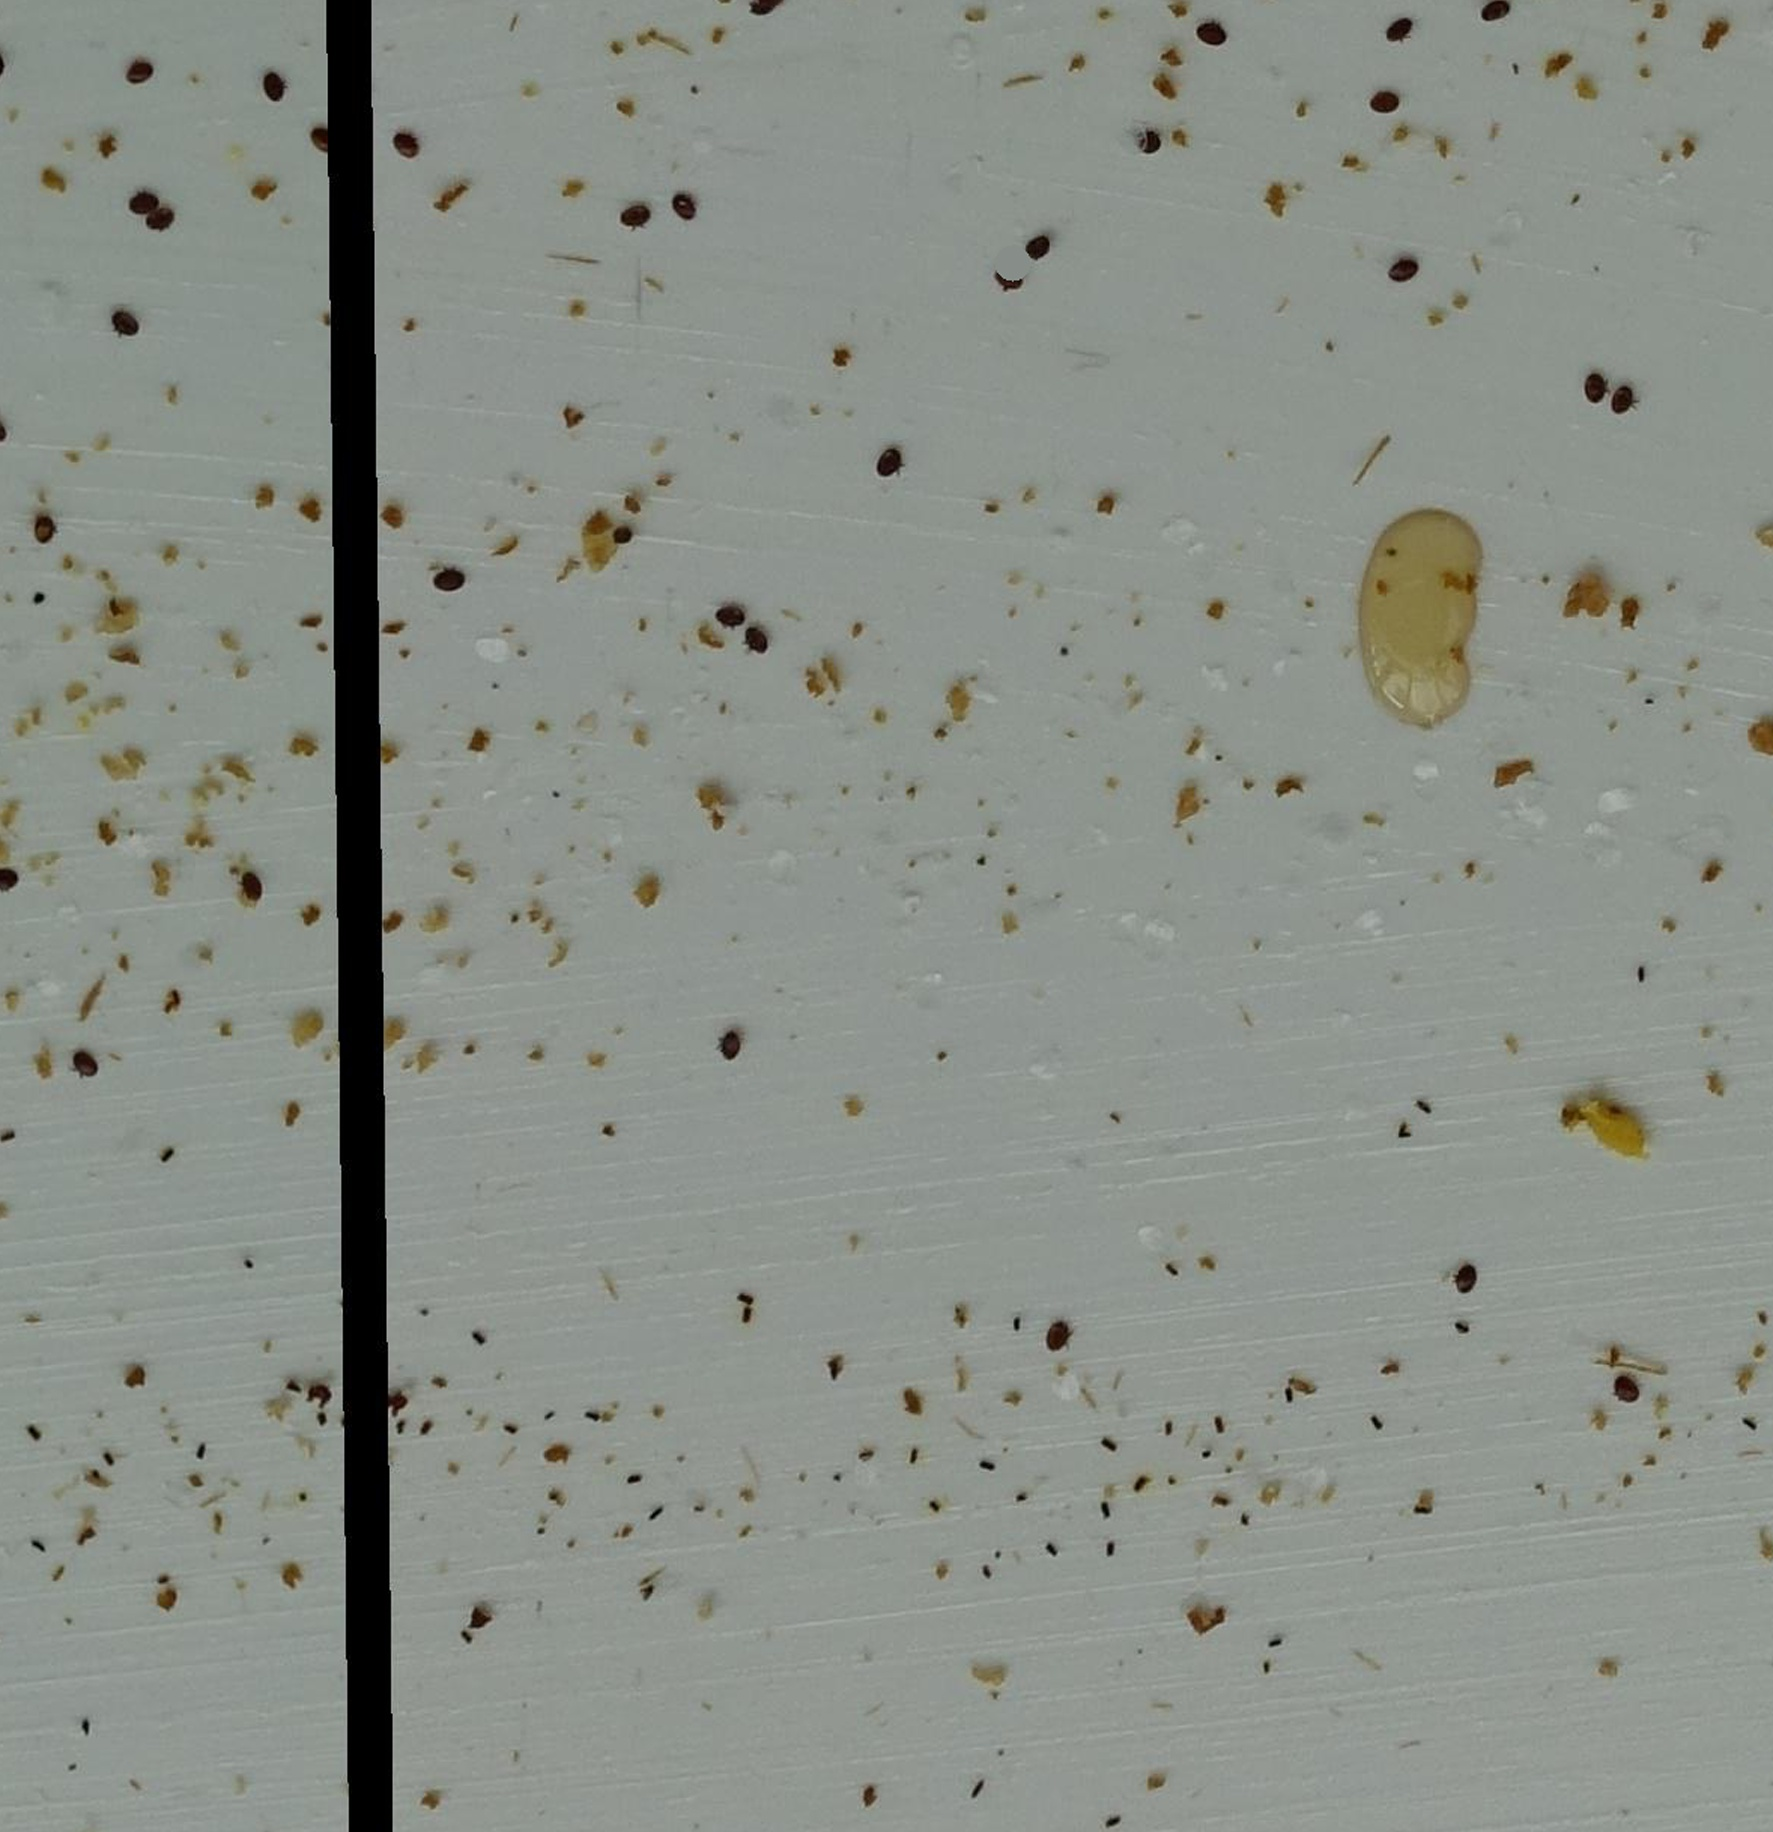Varroa: (1125, 121, 1169, 165), (435, 569, 474, 608), (1449, 1251, 1483, 1291), (131, 186, 165, 224), (1037, 1323, 1075, 1358), (873, 448, 908, 483), (711, 1030, 744, 1063), (1385, 257, 1418, 290), (110, 308, 142, 340), (671, 190, 703, 222), (1382, 15, 1415, 47), (1608, 383, 1641, 415), (70, 1044, 101, 1078), (1582, 371, 1613, 406), (150, 201, 182, 236), (1609, 1376, 1641, 1408), (393, 132, 424, 165), (124, 61, 155, 92), (1194, 16, 1225, 47), (618, 201, 649, 232), (1371, 83, 1402, 114), (716, 600, 747, 631), (729, 613, 761, 644), (237, 870, 267, 901), (990, 268, 1019, 299), (1026, 227, 1055, 258), (257, 75, 286, 105), (747, 622, 775, 653), (33, 514, 61, 543)
